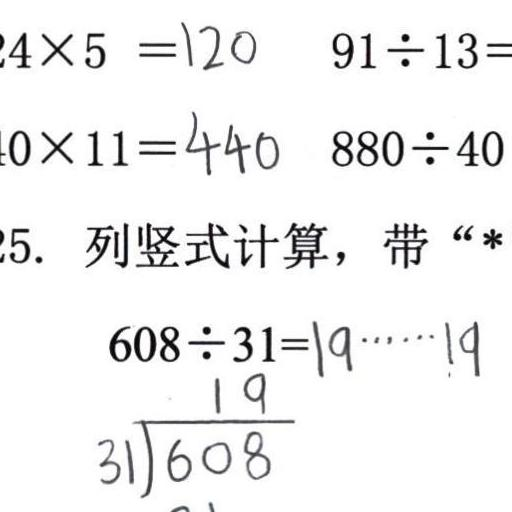ans: (307, 313, 483, 378), (179, 107, 279, 176), (176, 16, 256, 71)
